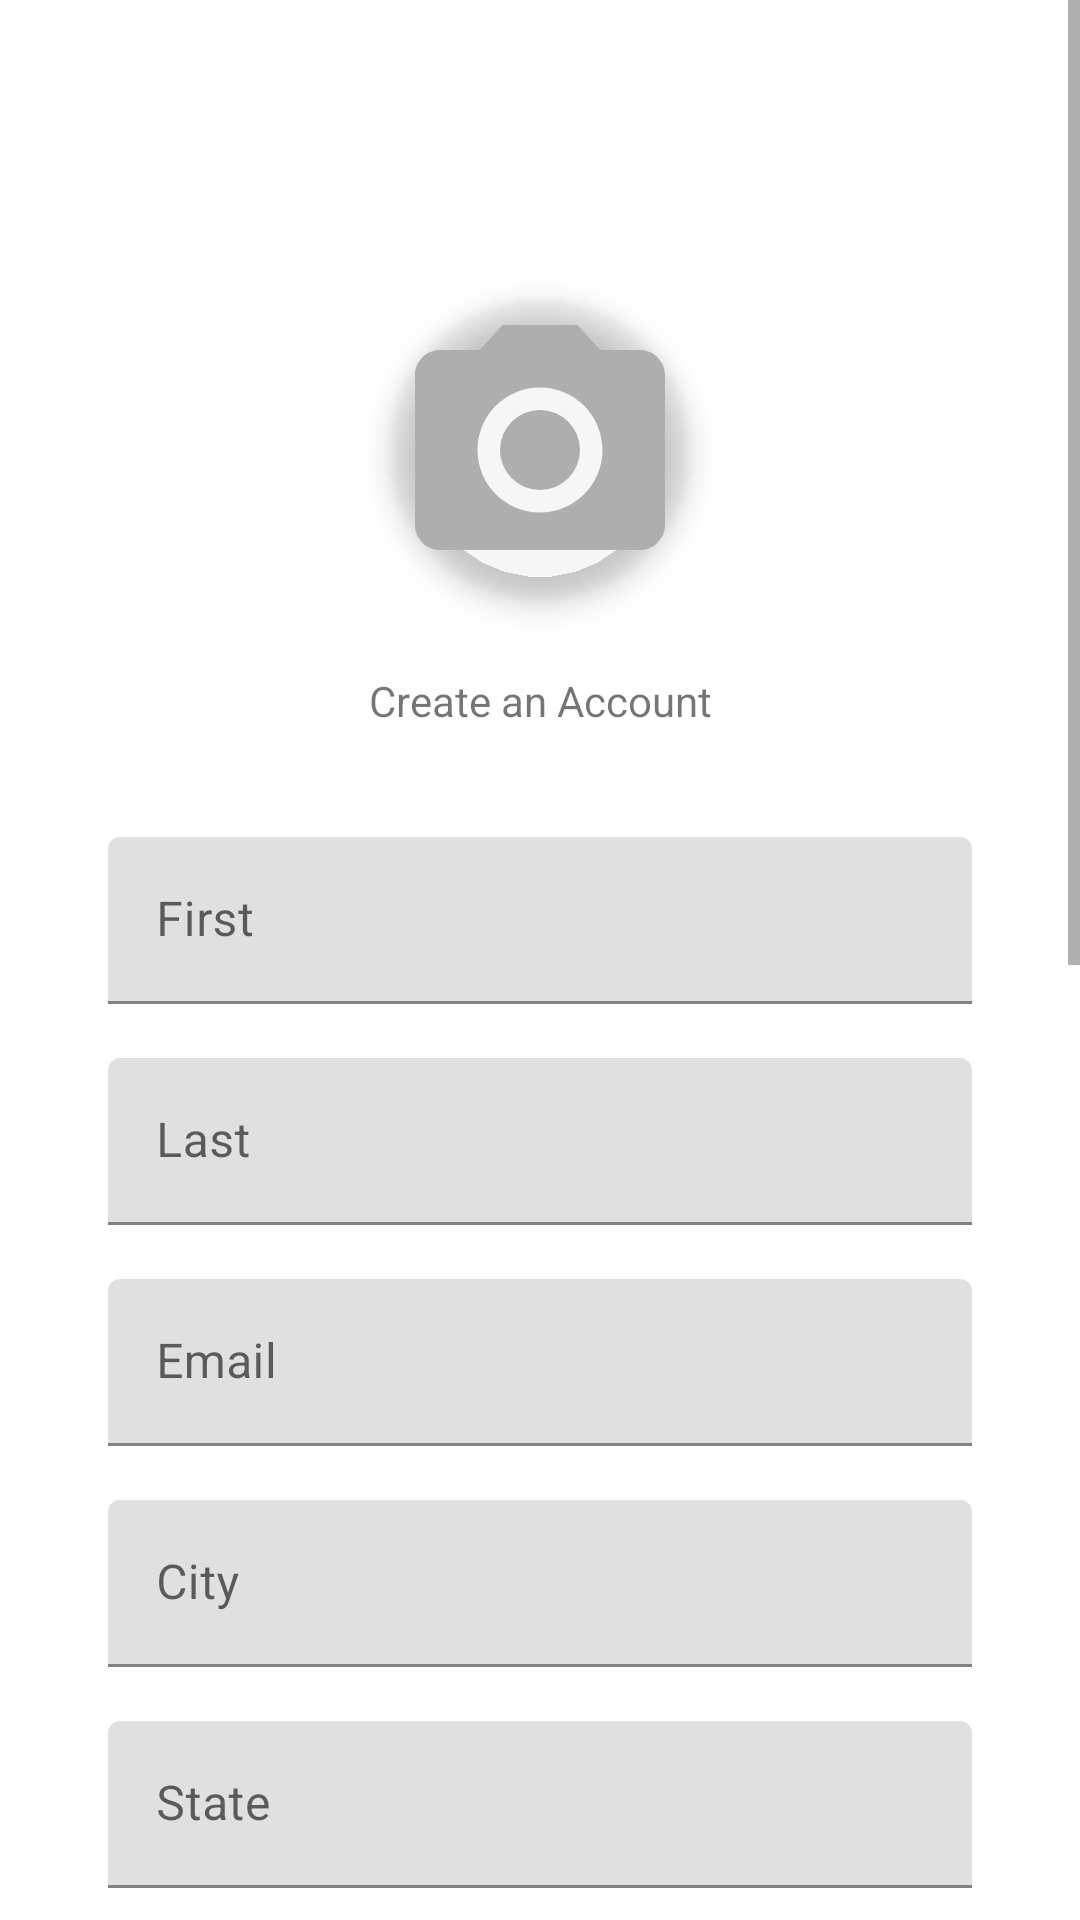

Locate icon controls on the screen. Image size 1080px x 1920px, boxes as (x1=x1, y1=y1, x2=x2, y2=y2).
photo camera: (x1=391, y1=305, x2=689, y2=600)
